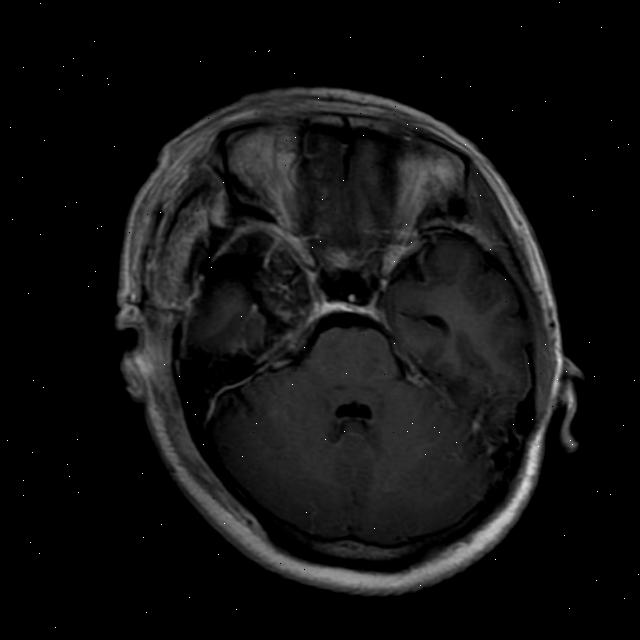Glioma: (178, 269, 274, 358)
